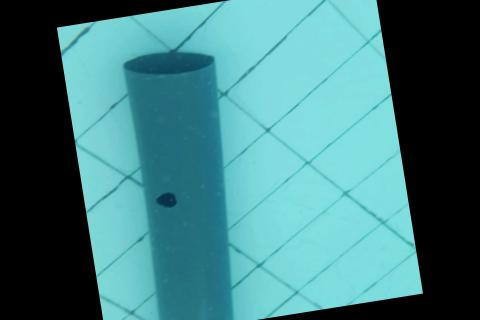kebocoran: (153, 189, 177, 208)
keretakan: (204, 314, 224, 320)
